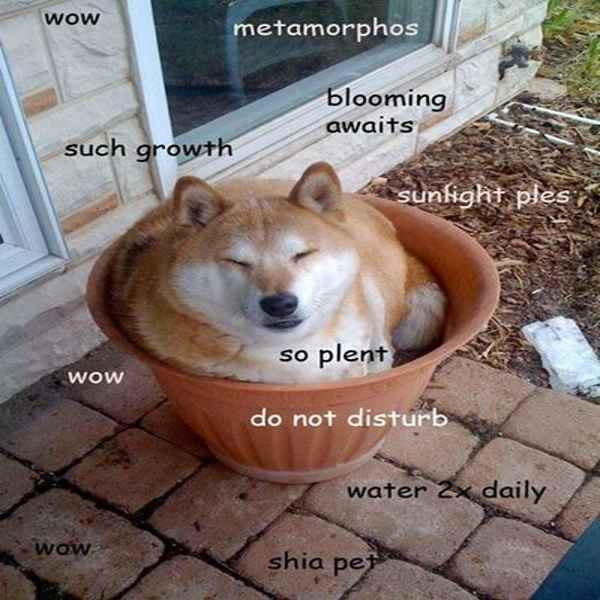doge: (149, 161, 371, 346)
